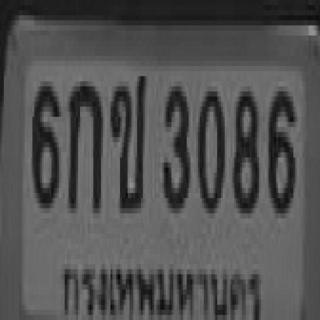A01: (67, 76, 101, 208)
A10: (109, 71, 145, 208)
N00: (196, 86, 223, 208)
N03: (162, 81, 189, 208)
N06: (30, 76, 57, 203), (267, 86, 293, 208)
N08: (230, 86, 257, 208)
P04: (57, 254, 263, 320)
